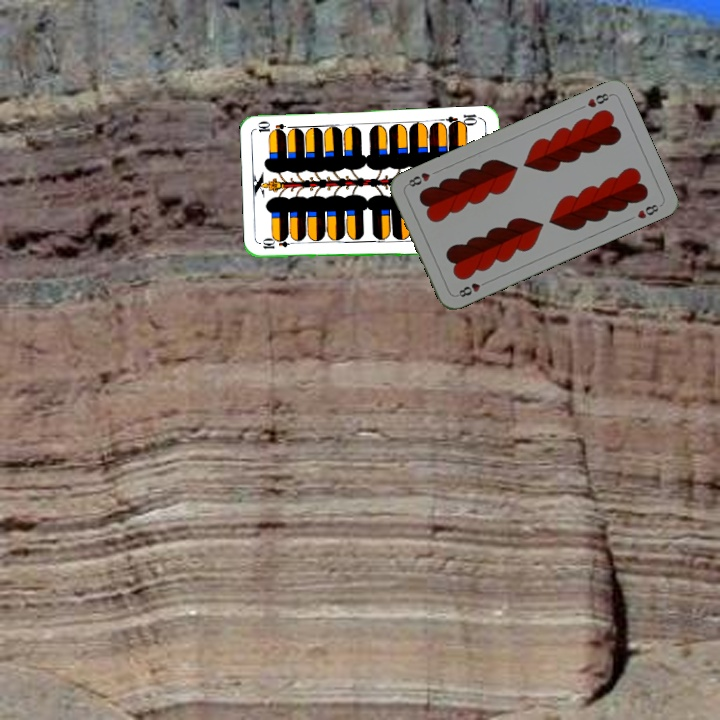E10: (443, 110, 483, 130), (258, 236, 299, 251)
H8: (453, 277, 491, 300), (583, 89, 614, 110)
